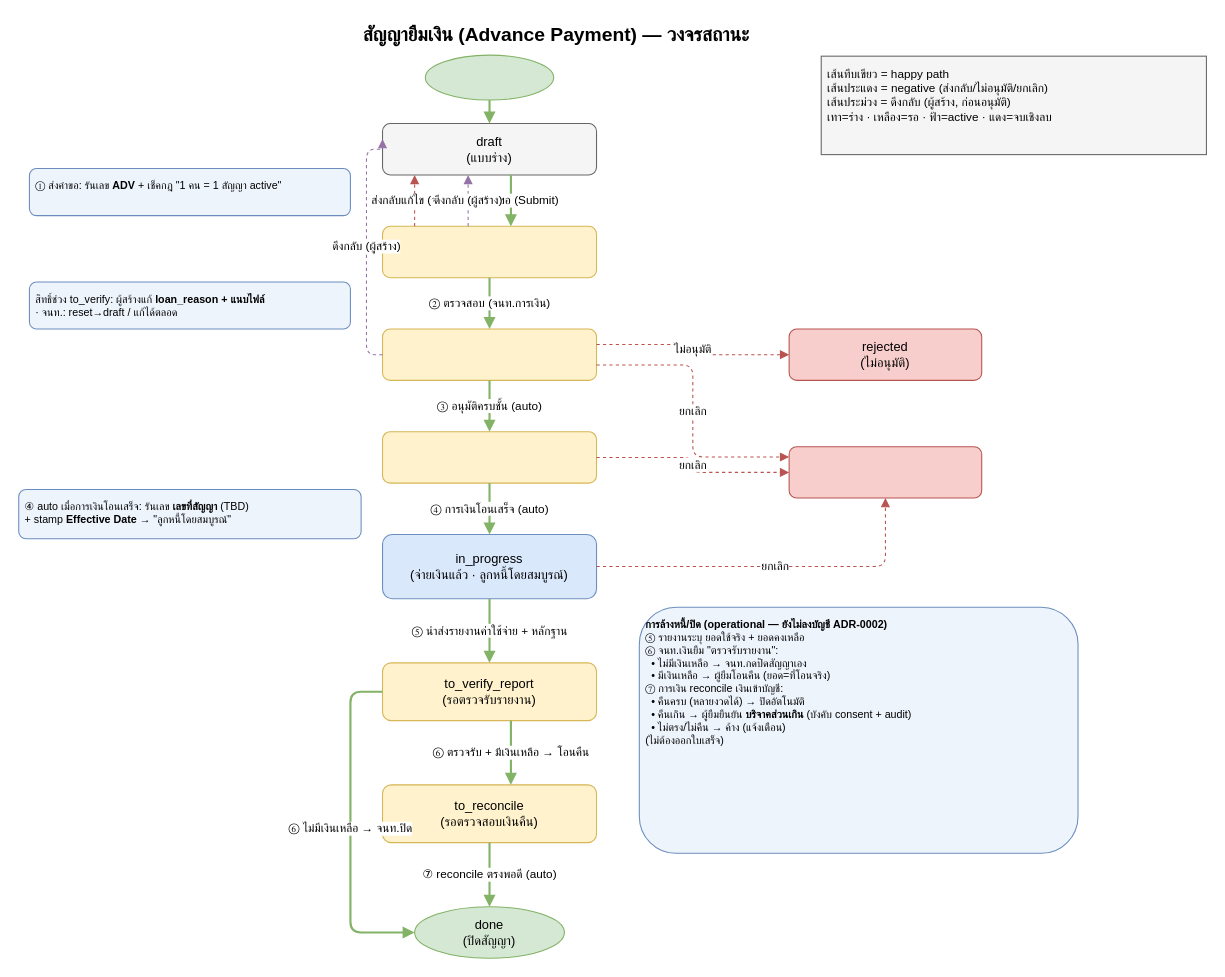
Some shapes in this 1225 by 977 pixel diagram are drawn without their labels. The shapes that lost their labels are listed below. From the top down, each one's centre as x and y in pixels, then its label:
pixel 489 77: สร้างสัญญา
pixel 489 251: to_verify (รอตรวจสอบคำขอ)
pixel 489 354: to_approve (รออนุมัติ)
pixel 489 457: waiting_transfer (รอการโอนเงิน)
pixel 885 472: cancel (ยกเลิกสัญญา)
